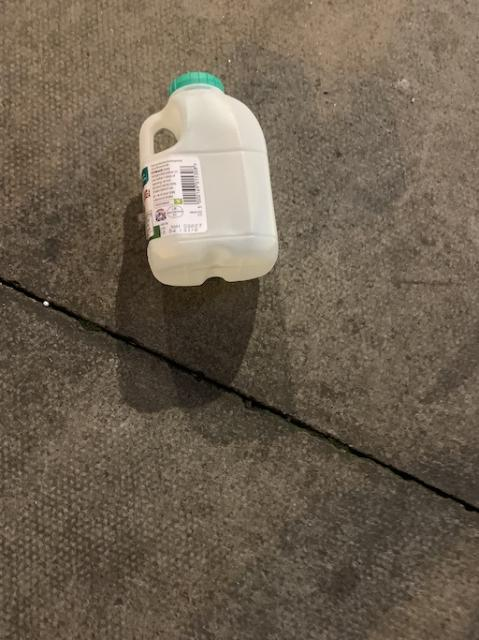plastic: (139, 71, 276, 284)
